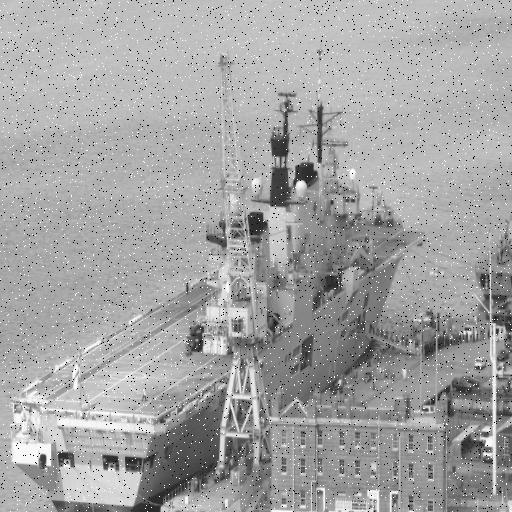Portanaves: (4, 41, 432, 512)
